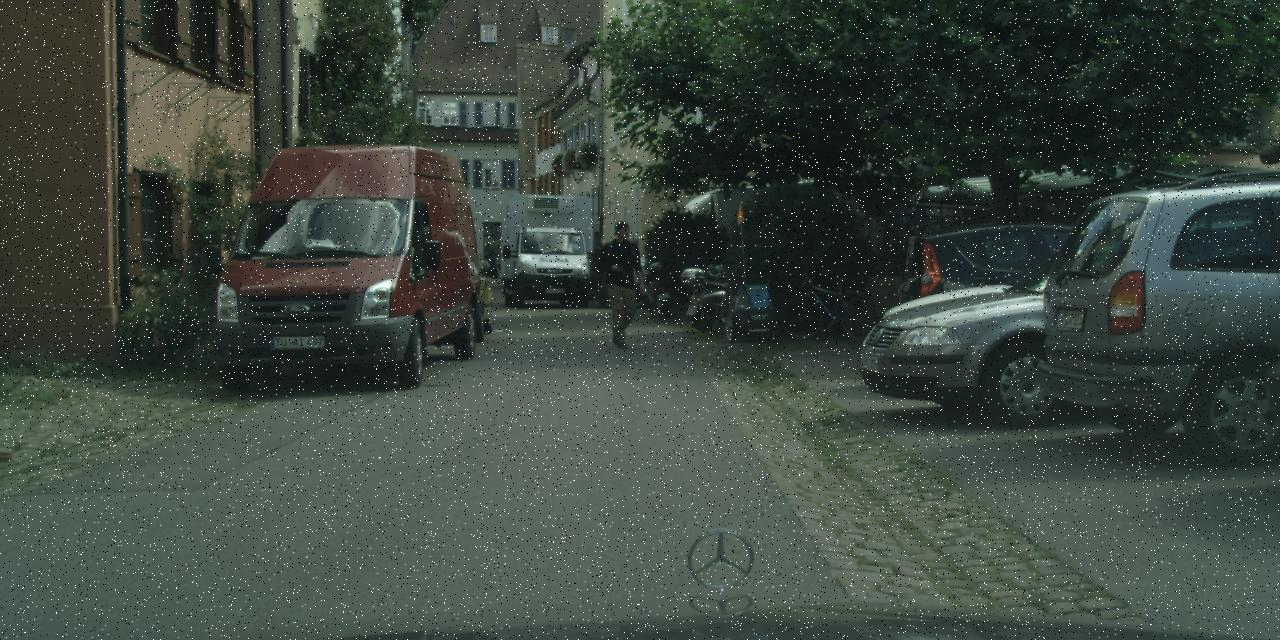ped: (596, 220, 645, 342)
